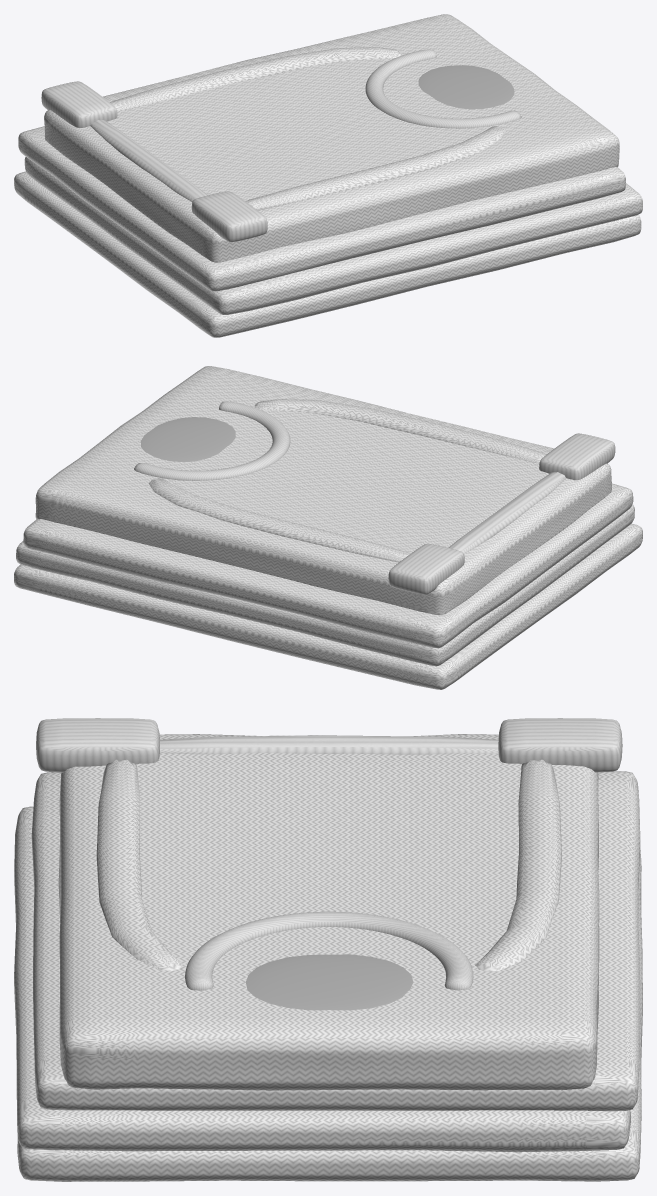
Rendered from sweater.glb.
3 views of the same model, one above another, from view 1: azimuth 30°, elevation 25°; view 2: azimuth 150°, elevation 25°; view 3: azimuth 270°, elevation 25° (orthographic). The views are drawn at different scales.
Visible parts, largest first — view 1: sweater_layer, sweater_fold2, sweater_fold1, sweater_fold0, sweater_sleeve-1, sweater_sleeve1, sweater_neck, sweater_collar, sweater_cuff-1, sweater_cuff1, sweater_hem; view 2: sweater_layer, sweater_fold2, sweater_fold0, sweater_fold1, sweater_sleeve1, sweater_sleeve-1, sweater_neck, sweater_collar, sweater_cuff1, sweater_cuff-1, sweater_hem; view 3: sweater_layer, sweater_fold2, sweater_fold1, sweater_fold0, sweater_sleeve1, sweater_sleeve-1, sweater_neck, sweater_collar, sweater_hem, sweater_cuff-1, sweater_cuff1.
Boxes of the visible parts, <box> form: sweater_layer: <box>44,14,619,262</box>; sweater_fold2: <box>18,126,625,291</box>; sweater_fold1: <box>24,157,642,314</box>; sweater_fold0: <box>14,171,641,337</box>; sweater_sleeve-1: <box>245,126,506,210</box>; sweater_sleeve1: <box>110,47,401,111</box>; sweater_neck: <box>418,65,514,109</box>; sweater_collar: <box>365,49,521,128</box>; sweater_cuff-1: <box>191,191,267,242</box>; sweater_cuff1: <box>41,81,117,127</box>; sweater_hem: <box>90,120,207,201</box>; sweater_layer: <box>35,366,611,615</box>; sweater_fold2: <box>23,483,633,648</box>; sweater_fold0: <box>14,523,642,689</box>; sweater_fold1: <box>16,504,634,666</box>; sweater_sleeve1: <box>148,478,410,562</box>; sweater_sleeve-1: <box>254,399,546,463</box>; sweater_neck: <box>140,417,235,462</box>; sweater_collar: <box>134,401,290,480</box>; sweater_cuff1: <box>388,543,464,594</box>; sweater_cuff-1: <box>539,433,615,480</box>; sweater_hem: <box>448,472,566,553</box>; sweater_layer: <box>58,734,599,1090</box>; sweater_fold2: <box>31,771,640,1111</box>; sweater_fold1: <box>14,806,630,1152</box>; sweater_fold0: <box>17,850,642,1181</box>; sweater_sleeve1: <box>475,759,561,971</box>; sweater_sleeve-1: <box>96,759,182,970</box>; sweater_neck: <box>245,954,413,1010</box>; sweater_collar: <box>185,911,473,990</box>; sweater_hem: <box>160,735,498,754</box>; sweater_cuff-1: <box>36,718,159,772</box>; sweater_cuff1: <box>498,718,622,772</box>.
Size of the model in its own units: 32.18 by 7.73 by 26.18.
3 materials, 3 textured.
